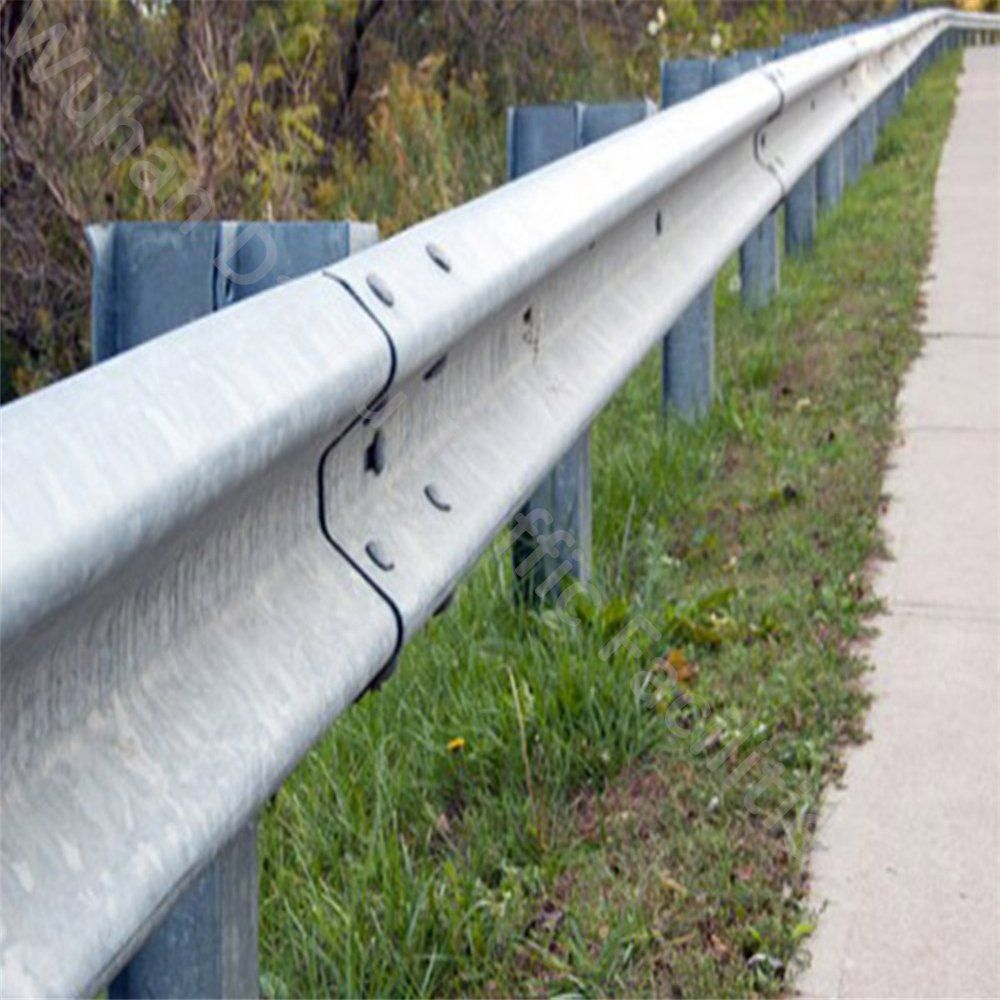not_damaged: (28, 149, 638, 959)
